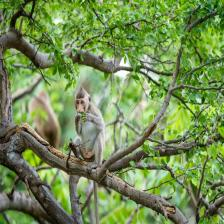monkey: (65, 85, 107, 178)
